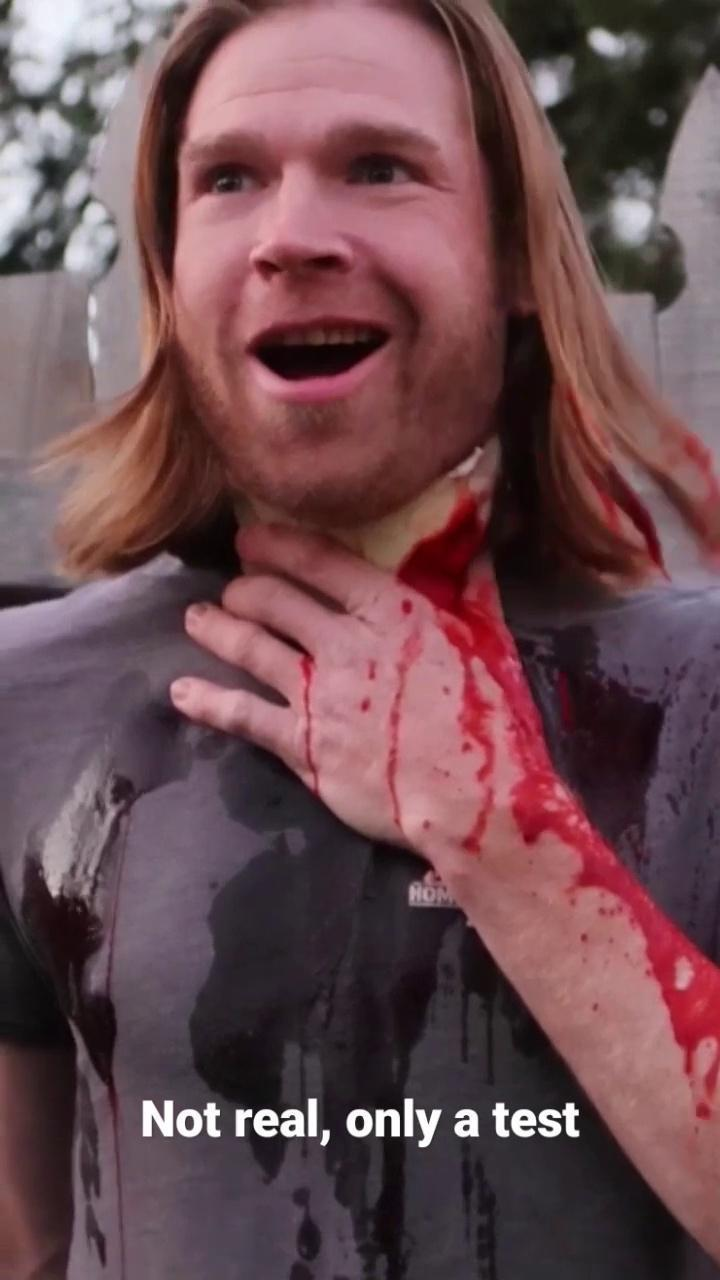Fire: (397, 500, 719, 1120), (518, 625, 664, 870), (381, 667, 406, 844), (295, 653, 319, 798), (294, 712, 301, 760)
